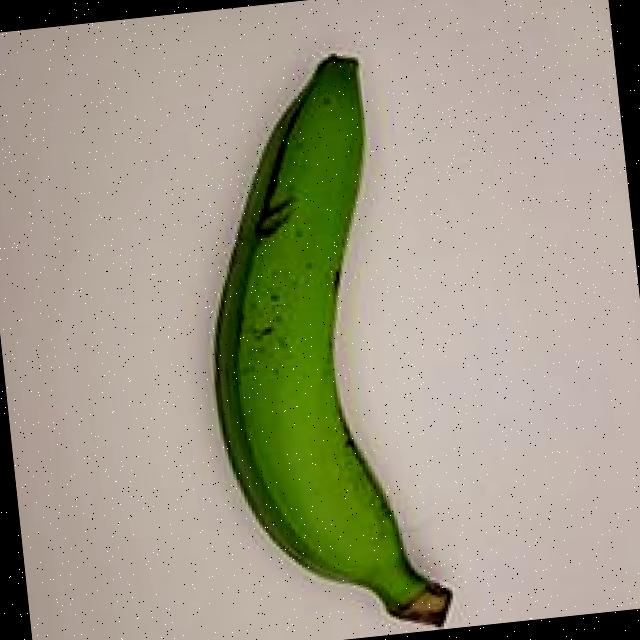Raw: (166, 24, 495, 640)
